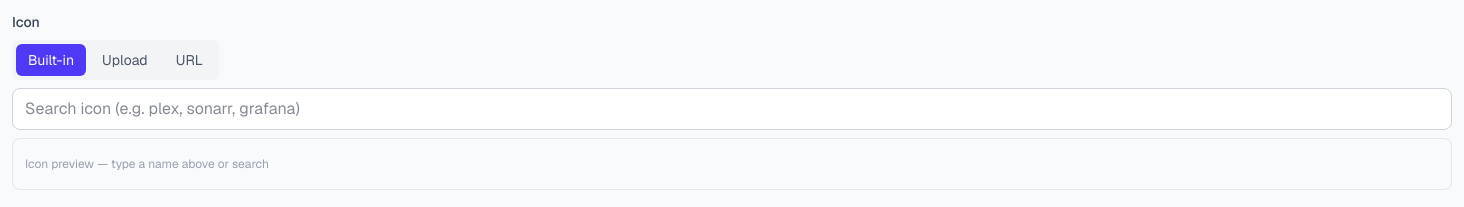
Scenario: IconPicker › shows url input when url tab is selected
Click the button "URL" at (189, 60), box [164,44,215,76]
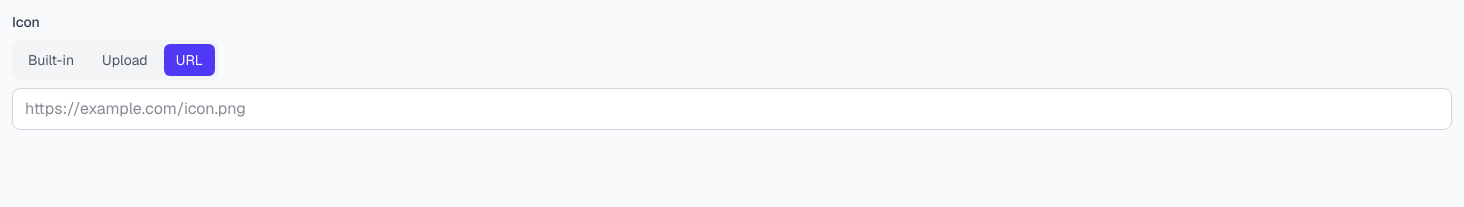
Now the field with placeholder "https://example.com/icon.png" is shown, box [12,88,1452,130]
